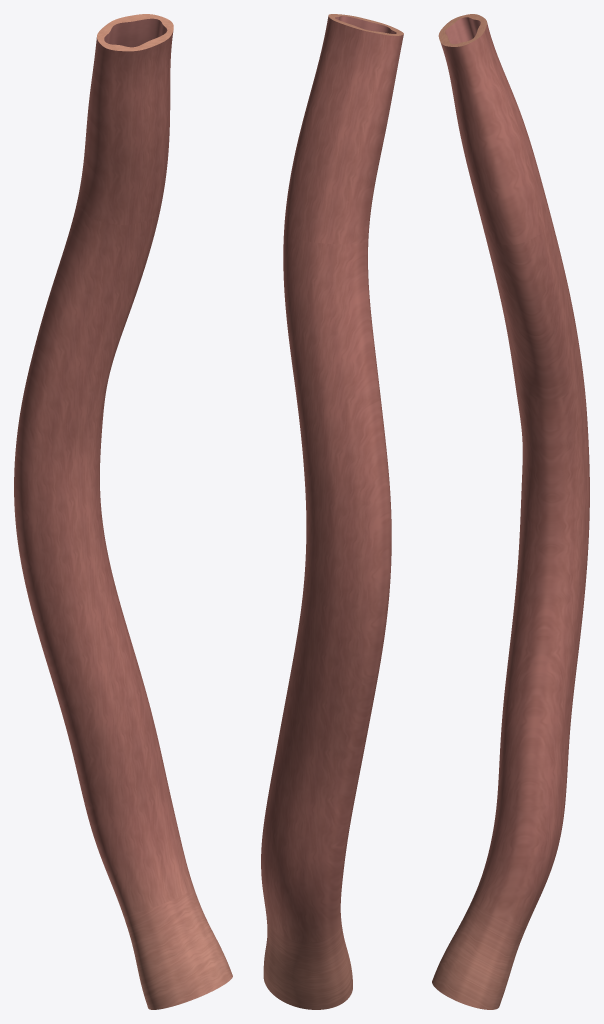
The model's file is previous-isolated.glb.
3 renders of one model, left to right at view 1: azimuth 30°, elevation 25°; view 2: azimuth 150°, elevation 25°; view 3: azimuth 270°, elevation 25°, orthographic. The views are drawn at different scales.
Visible parts, largest first — view 1: Isolated_Esophagus; view 2: Isolated_Esophagus; view 3: Isolated_Esophagus.
Boxes of the visible parts, bbox=[...] form: Isolated_Esophagus: bbox=[14, 14, 232, 1009]; Isolated_Esophagus: bbox=[261, 14, 403, 1009]; Isolated_Esophagus: bbox=[432, 14, 589, 1009].
Size of the model in its own units: 0.0439 by 0.2512 by 0.0376.
7 materials, 7 textured.
